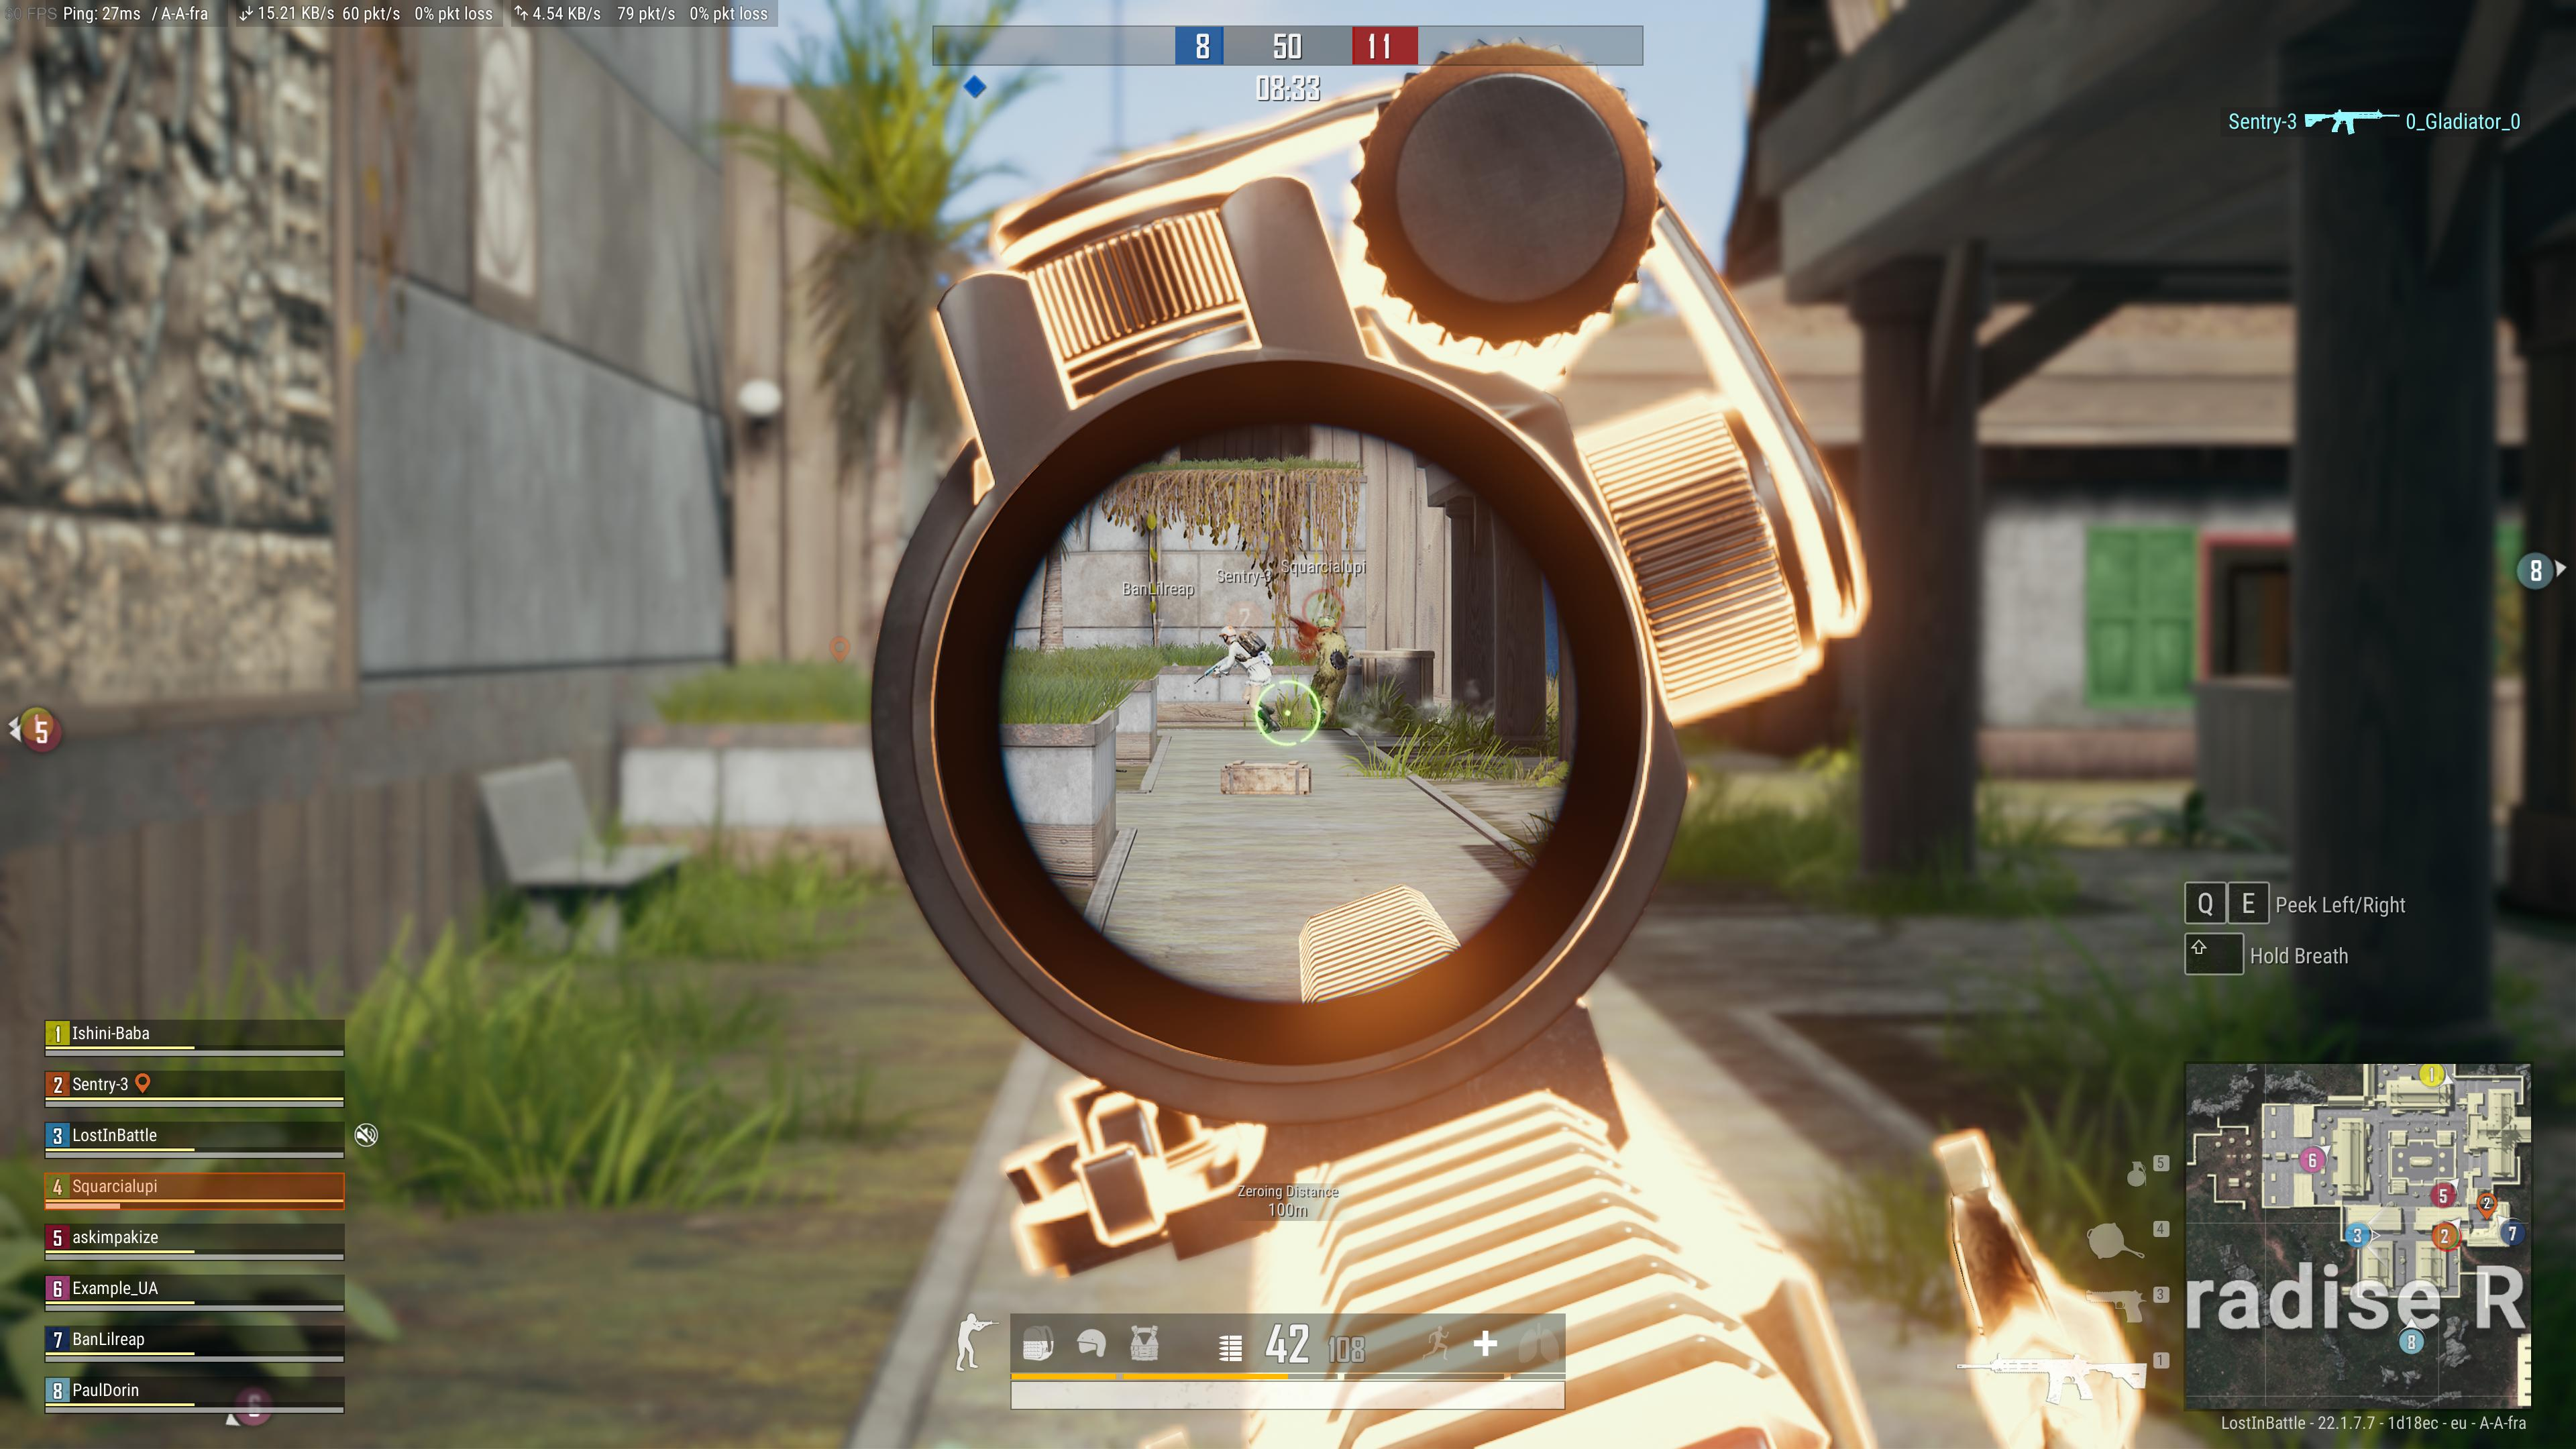friendly: (1210, 616, 1283, 734), (1295, 603, 1350, 731)
